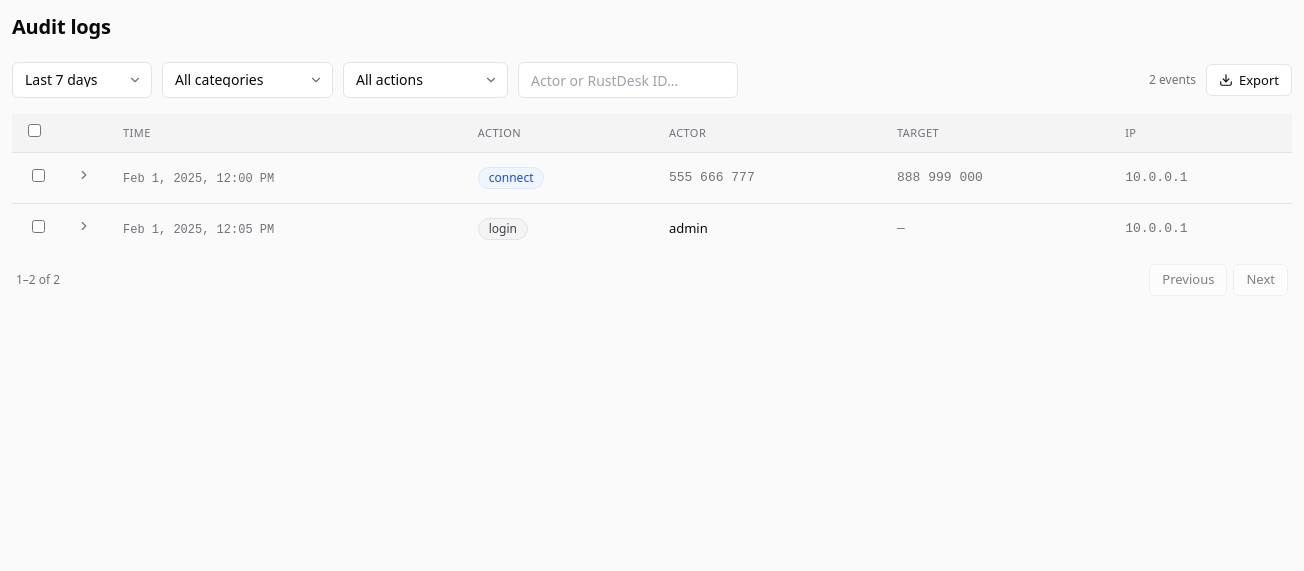
Scenario: <LogsPage /> › expands a row to show a readable detail panel (not just raw JSON)
Expected: the text "555 666 777" is shown, [669,170,755,185]
Click the button named "expand" next to "Feb 1, 2025, 12:05 PM".
click(84, 226)  # box [77,219,91,233]
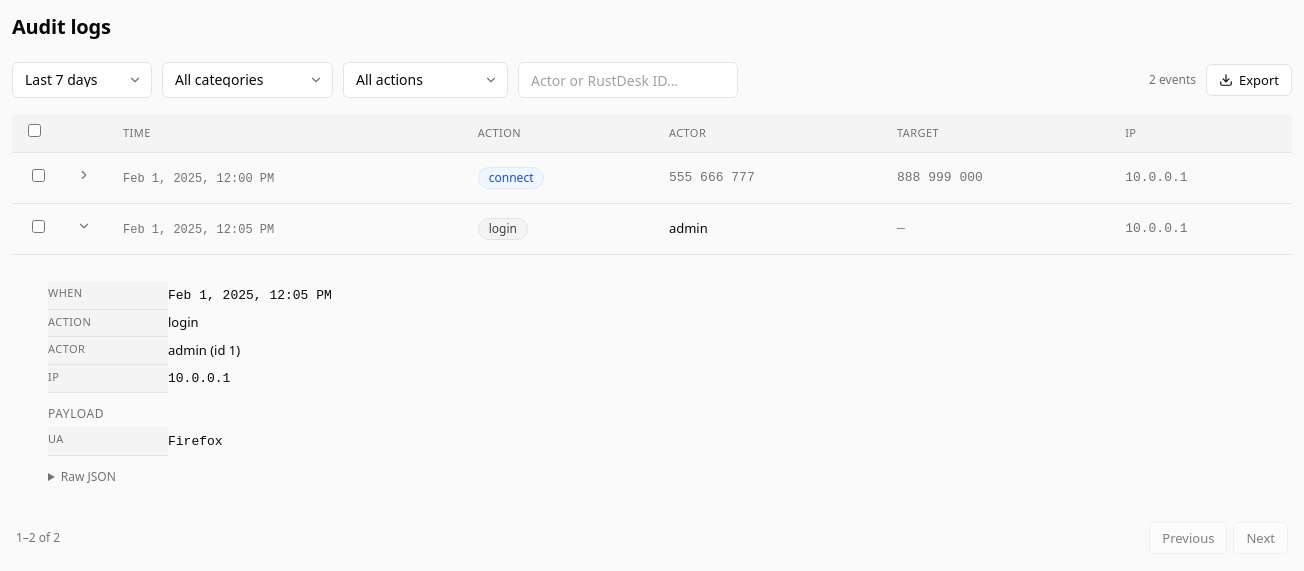
Expected: the text "admin (id 1)" is shown, [168,336,1260,364]
Expected: the column heading "ua" is shown, [48,427,168,456]
Expected: the text "Firefox" is shown, [168,434,223,449]
